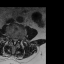CCS_normal: (13, 36, 15, 46)
LFS_severe_stenosis: (18, 37, 20, 42)
LLS_stenosis: (15, 37, 17, 42)
RFS_severe_stenosis: (9, 35, 12, 40)
RLS_stenosis: (12, 36, 13, 42)
